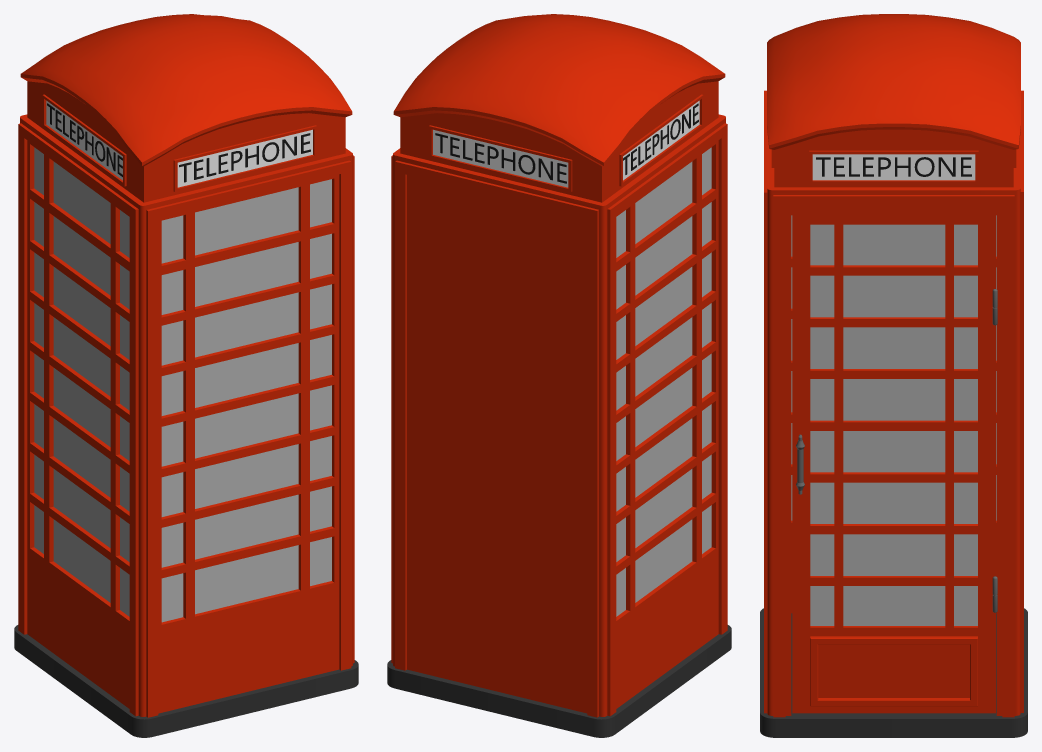
The model's file is phonestation.glb.
The picture shows the model from 3 angles, left to right: view 1: azimuth 30°, elevation 25°; view 2: azimuth 150°, elevation 25°; view 3: azimuth 270°, elevation 25°; orthographic projection. The views are drawn at different scales.
Visible parts, largest first — view 1: Phone Box, glass2, Cube.002, glass3, Text.001, Text; view 2: Phone Box, Cube.002, glass3, Text.003, Text; view 3: door, glass1, Phone Box, Cube.002, Text.002, glass3.
Boxes of the visible parts, left/top/right/bottom form: Phone Box: left=14, top=114, right=358, bottom=737; glass2: left=161, top=179, right=331, bottom=622; Cube.002: left=20, top=14, right=352, bottom=202; glass3: left=34, top=147, right=129, bottom=616; Text.001: left=179, top=133, right=310, bottom=182; Text: left=47, top=103, right=122, bottom=176; Phone Box: left=387, top=114, right=731, bottom=737; Cube.002: left=393, top=14, right=725, bottom=202; glass3: left=616, top=147, right=711, bottom=616; Text.003: left=435, top=133, right=566, bottom=183; Text: left=623, top=103, right=698, bottom=174; door: left=792, top=209, right=995, bottom=713; glass1: left=810, top=224, right=977, bottom=625; Phone Box: left=760, top=90, right=1027, bottom=737; Cube.002: left=767, top=14, right=1020, bottom=187; Text.002: left=816, top=157, right=971, bottom=176; glass3: left=791, top=215, right=996, bottom=520.
Size of the model in its own units: 2.27 by 5.93 by 2.24.
